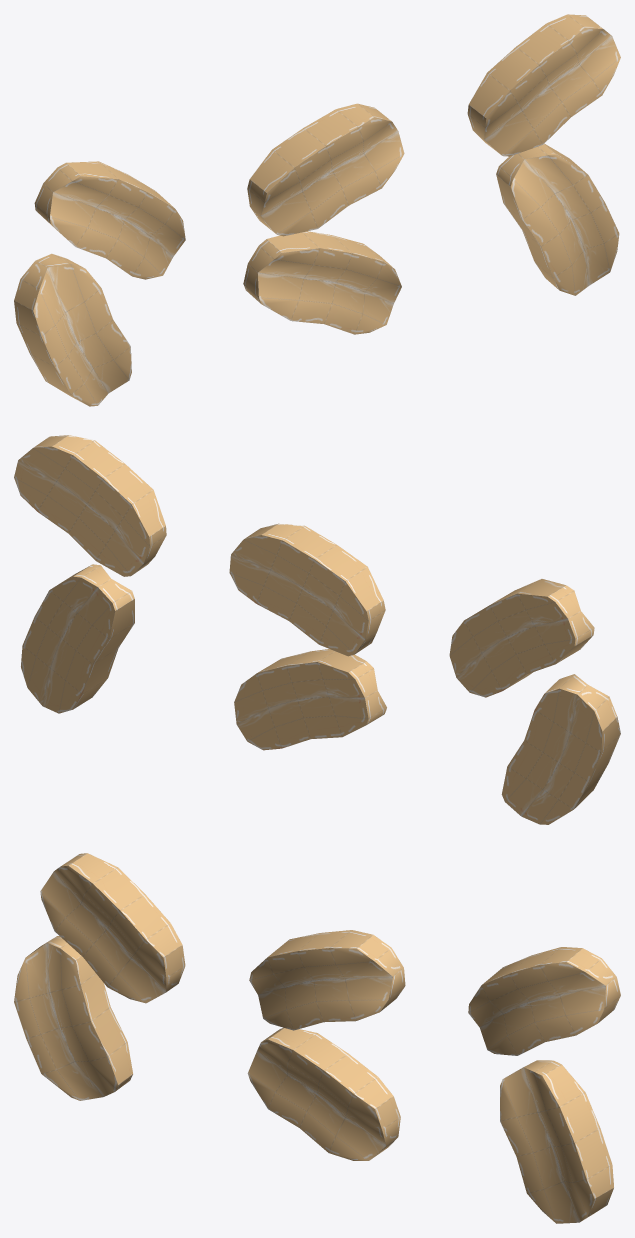
The model's file is Mani agrupado.fbx.
3 views of the same model, one above another, from view 1: azimuth 30°, elevation 25°; view 2: azimuth 150°, elevation 25°; view 3: azimuth 330°, elevation 25° (orthographic).
Parts seen in each view (by area): view 1: pCube21; view 2: pCube21; view 3: pCube21.
Part boxes in pixels (<box>): pCube21: <box>14,14,620,406</box>; pCube21: <box>14,435,620,824</box>; pCube21: <box>14,853,620,1223</box>.
Bounding box in the file's own units: 21.76 × 9.4 × 1.79.
Materials: 1 (1 with a texture image).
